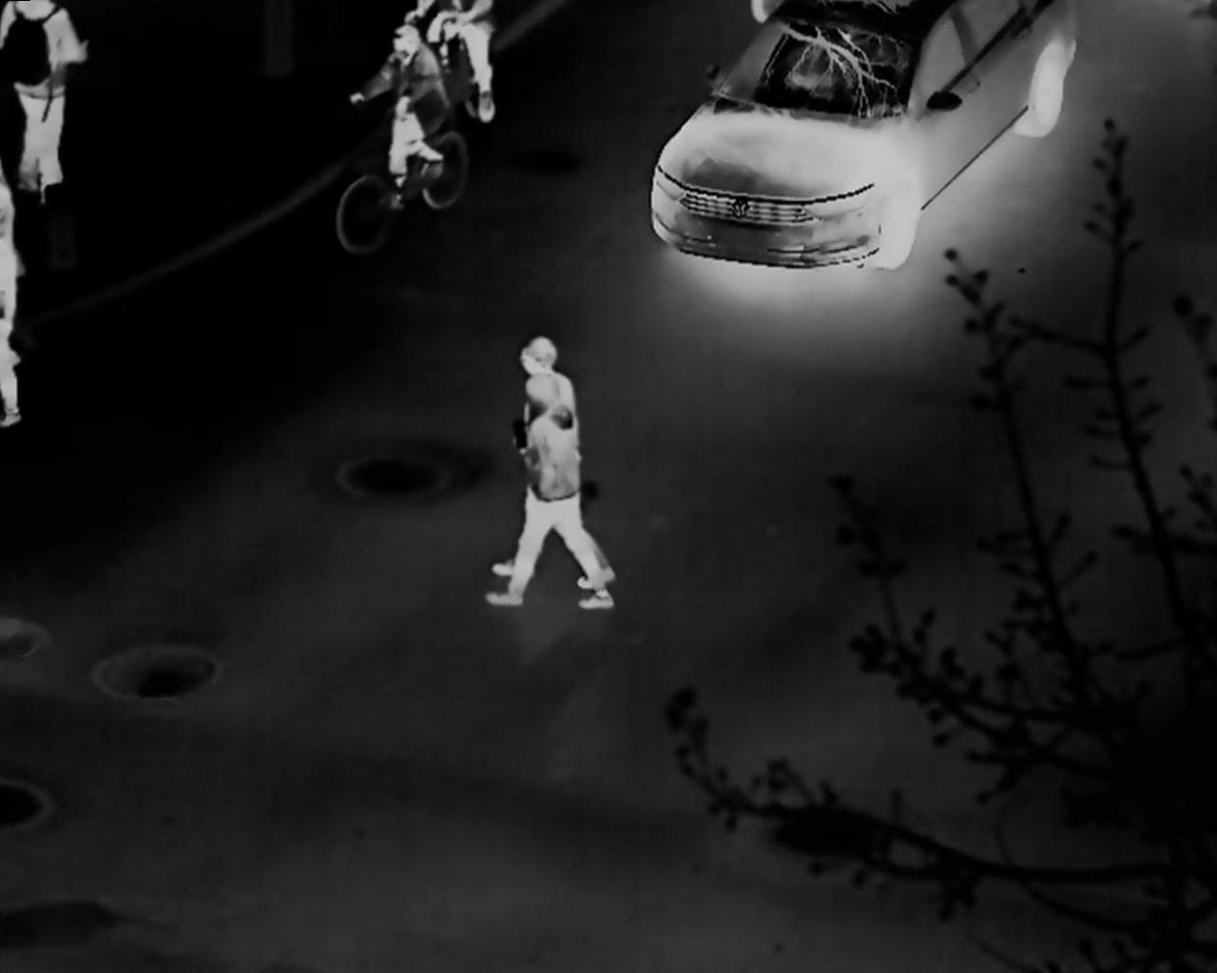person: (483, 370, 617, 613), (490, 333, 615, 589), (349, 24, 454, 207)
